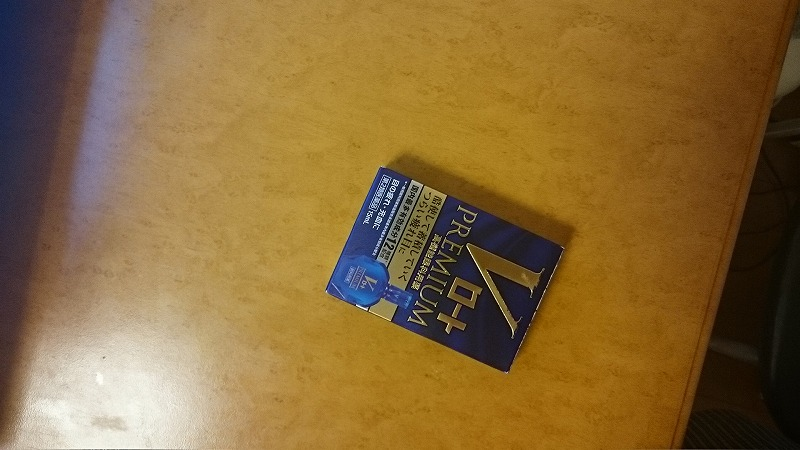D: (307, 159, 572, 384)
